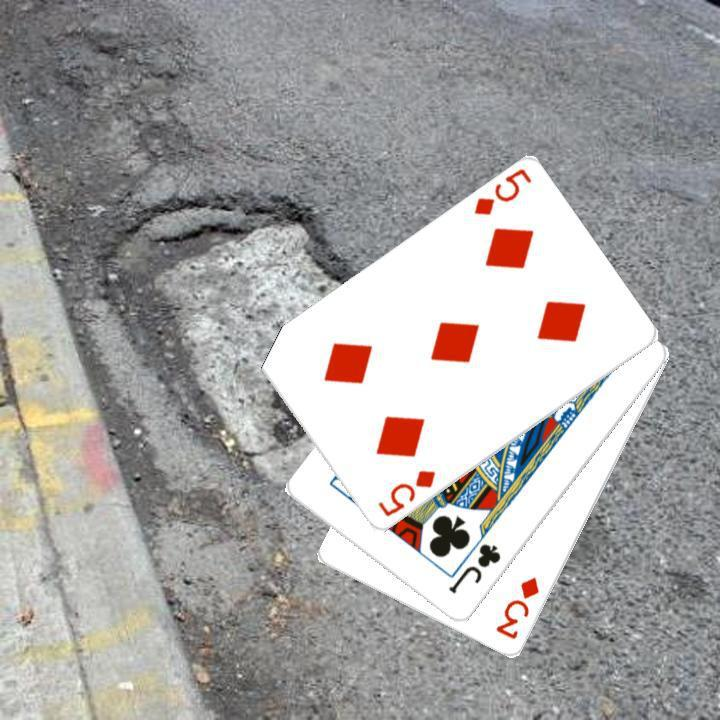3: (491, 572, 542, 642)
5: (469, 164, 534, 219), (373, 466, 438, 520)
J: (444, 539, 503, 597)
